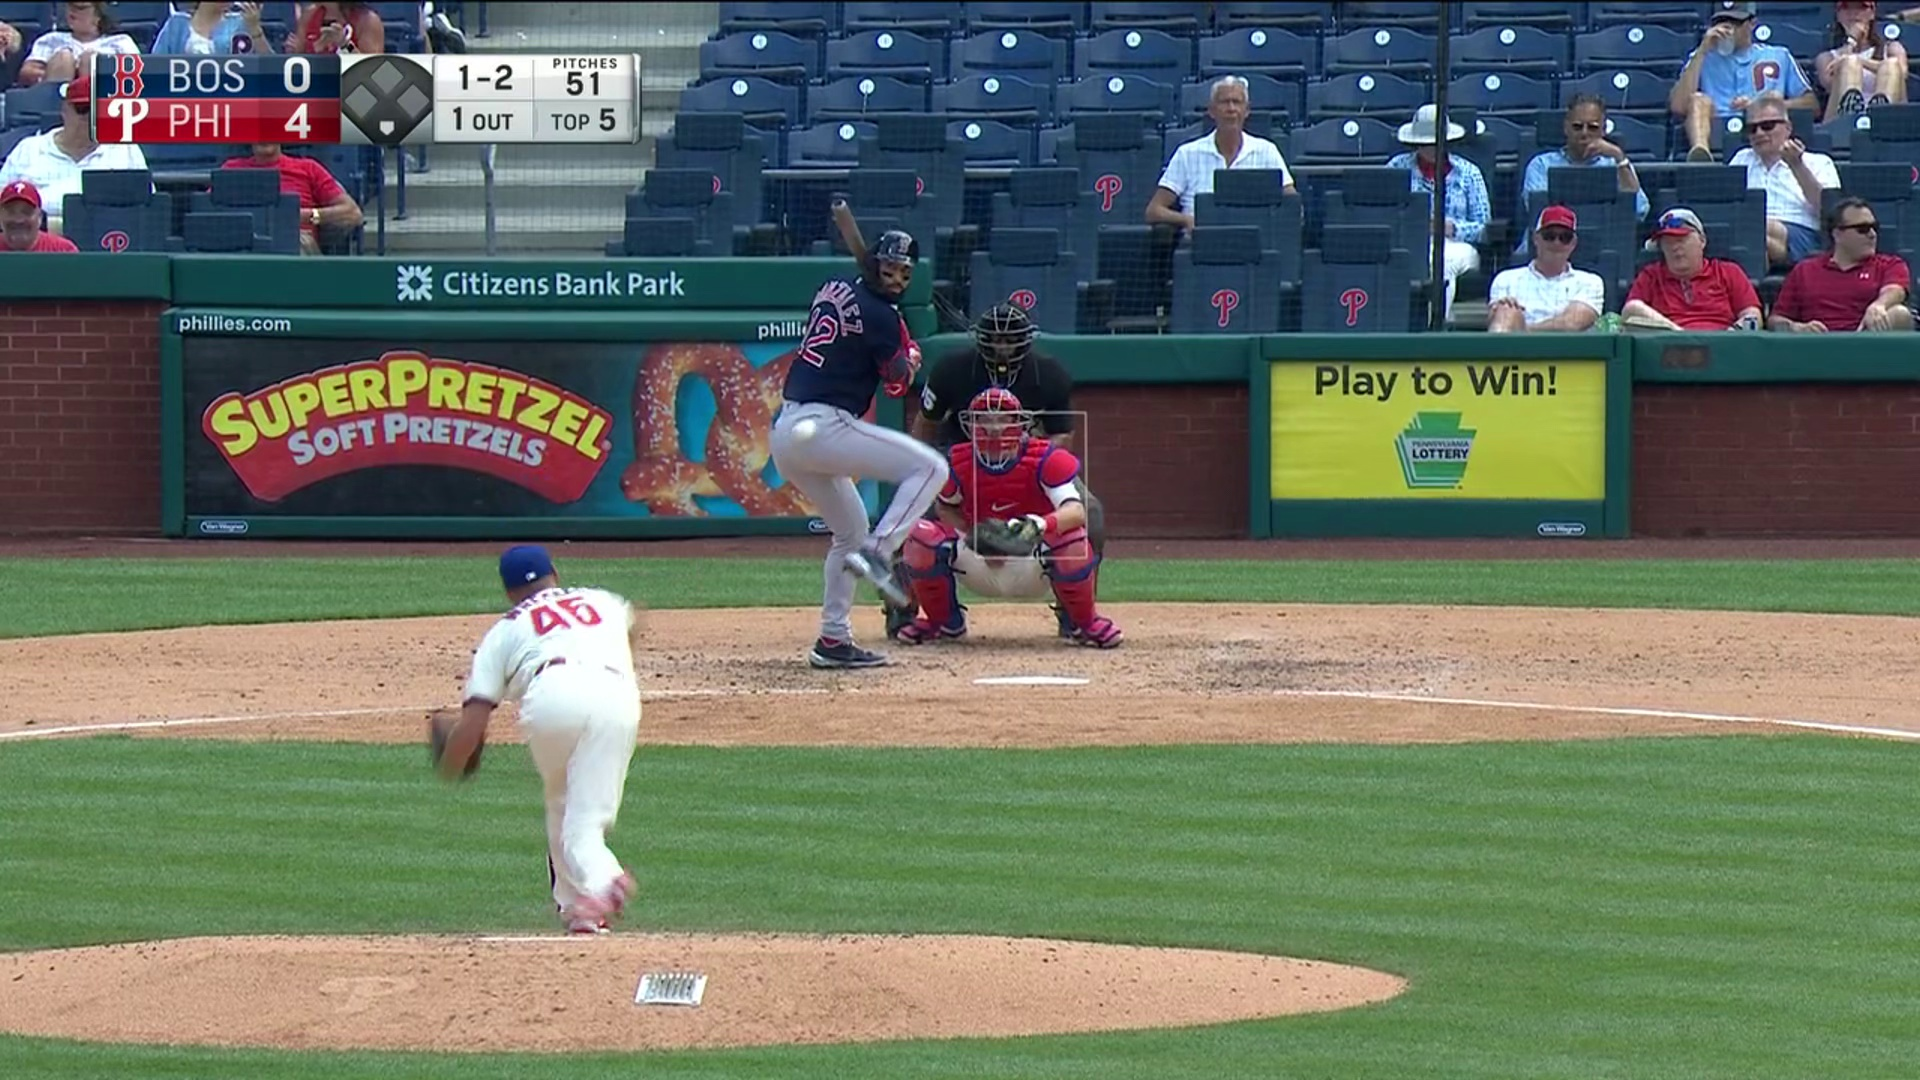baseball: (791, 418, 818, 440)
